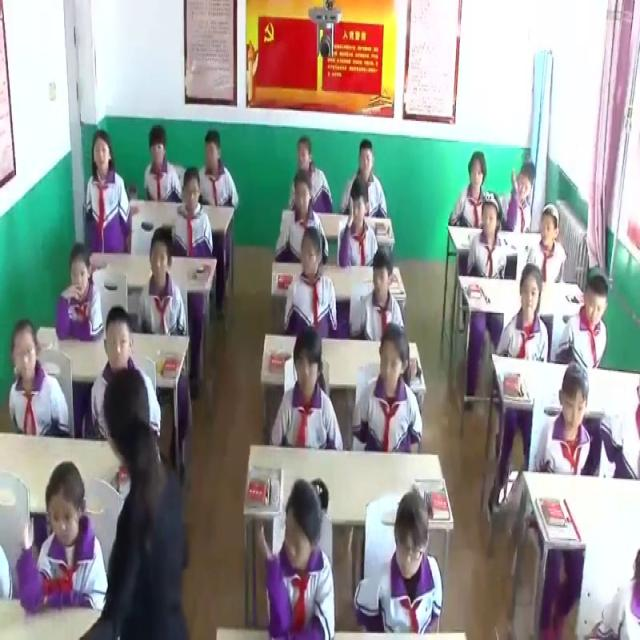focused: (359, 489, 442, 636), (359, 323, 426, 462), (87, 313, 158, 441), (5, 316, 73, 448), (272, 328, 341, 451), (283, 228, 339, 342), (86, 126, 134, 254), (546, 366, 590, 479), (280, 175, 328, 274), (348, 252, 402, 340), (499, 268, 548, 362), (141, 226, 182, 338), (560, 277, 607, 370), (172, 160, 215, 258), (58, 242, 99, 336), (469, 190, 508, 282), (452, 151, 494, 235), (347, 138, 389, 221), (530, 197, 568, 284), (198, 129, 240, 204), (294, 136, 332, 212), (142, 128, 179, 203)
raising_hand: (19, 475, 107, 616), (259, 476, 330, 640), (339, 175, 380, 268), (503, 152, 540, 240)
